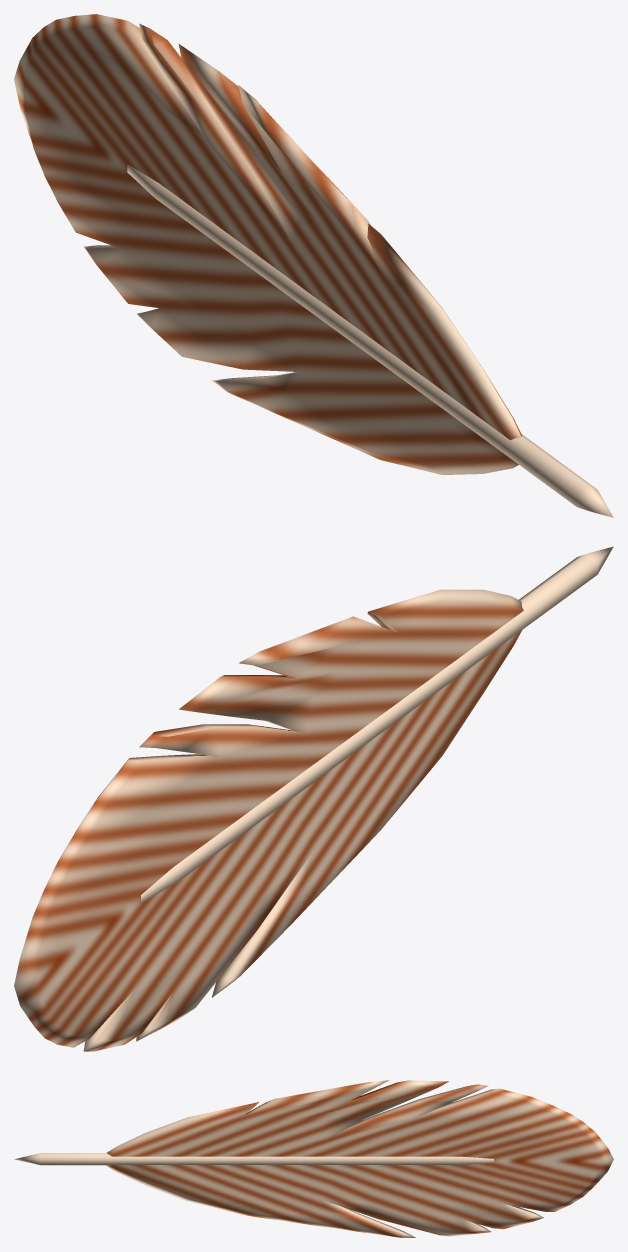
Rendered from Feather.fbx.
3 views of the same model, one above another, from view 1: azimuth 30°, elevation 25°; view 2: azimuth 150°, elevation 25°; view 3: azimuth 270°, elevation 25° (orthographic). The views are drawn at different scales.
Visible parts, largest first — view 1: Feather_2, Feather_1; view 2: Feather_2, Feather_1; view 3: Feather_2, Feather_1.
Part boxes in pixels (left/top/right/bottom): Feather_2: left=14, top=14, right=522, bottom=474; Feather_1: left=127, top=164, right=613, bottom=517; Feather_2: left=14, top=589, right=523, bottom=1051; Feather_1: left=141, top=546, right=613, bottom=903; Feather_2: left=106, top=1080, right=613, bottom=1237; Feather_1: left=14, top=1153, right=493, bottom=1165.
Size of the model in its own units: 0.2338 by 3.41 by 11.74.
1 material, 1 textured.
